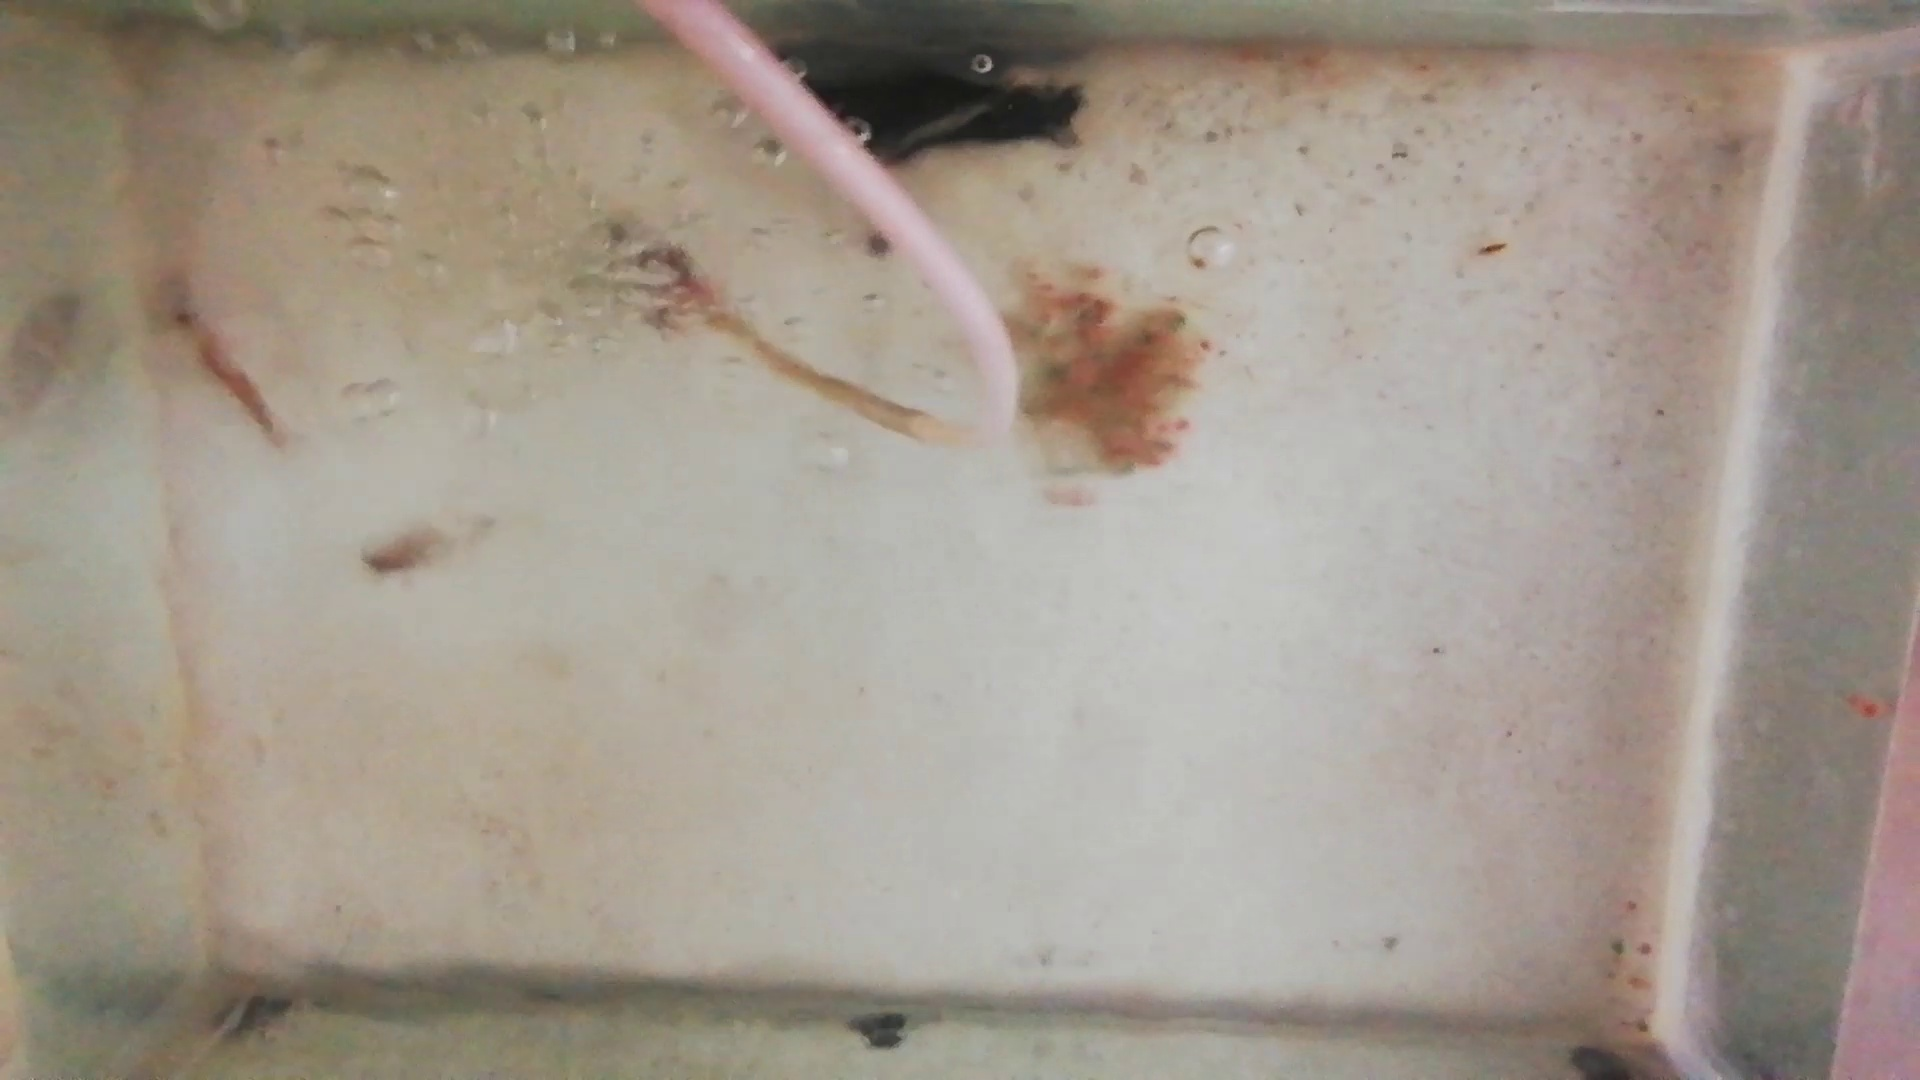fish: (167, 287, 277, 440), (361, 527, 475, 570)
